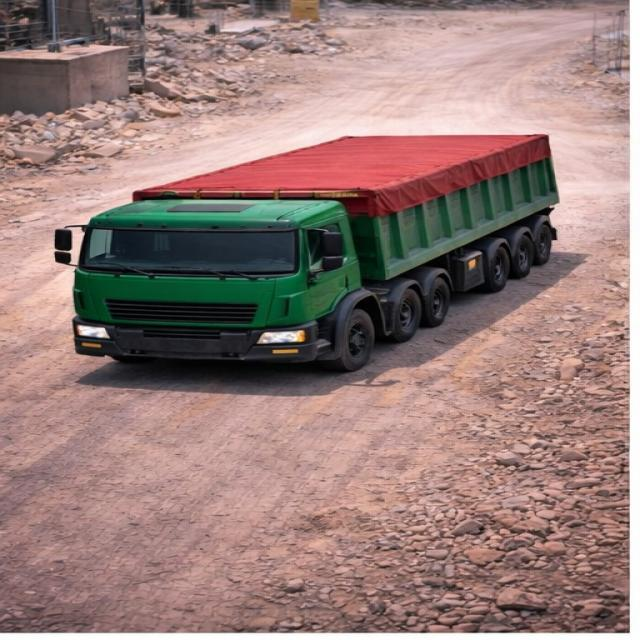trailer: (147, 134, 548, 198)
truck: (50, 110, 598, 373)
